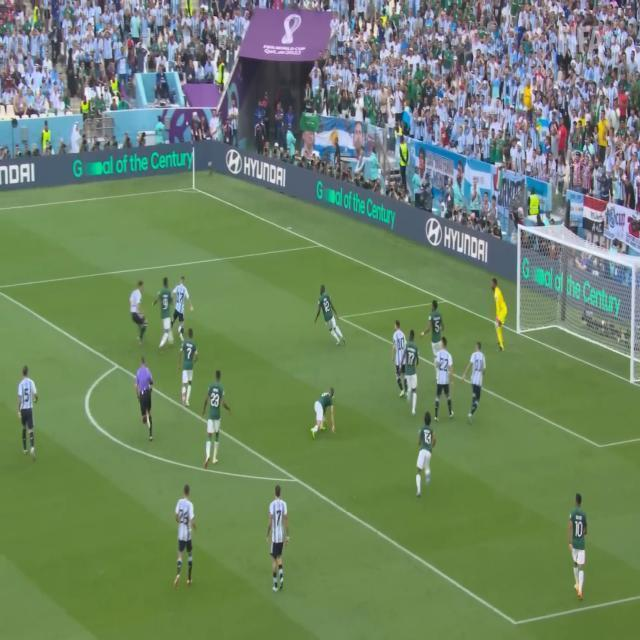player: (172, 473, 204, 596), (264, 478, 293, 601), (568, 487, 592, 602), (16, 361, 42, 464), (205, 367, 232, 466), (414, 405, 439, 501), (314, 279, 346, 349), (464, 336, 486, 424), (309, 376, 340, 437), (434, 334, 455, 421), (154, 270, 178, 345), (127, 269, 151, 343), (402, 324, 420, 422), (181, 320, 199, 410), (490, 280, 512, 353), (391, 318, 410, 396), (172, 259, 188, 346), (423, 293, 446, 353)
